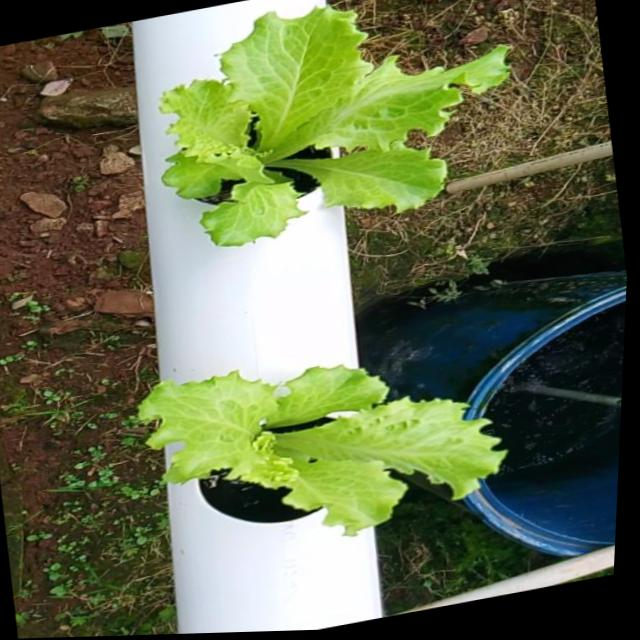Baby: (152, 5, 506, 246), (133, 369, 506, 541)
